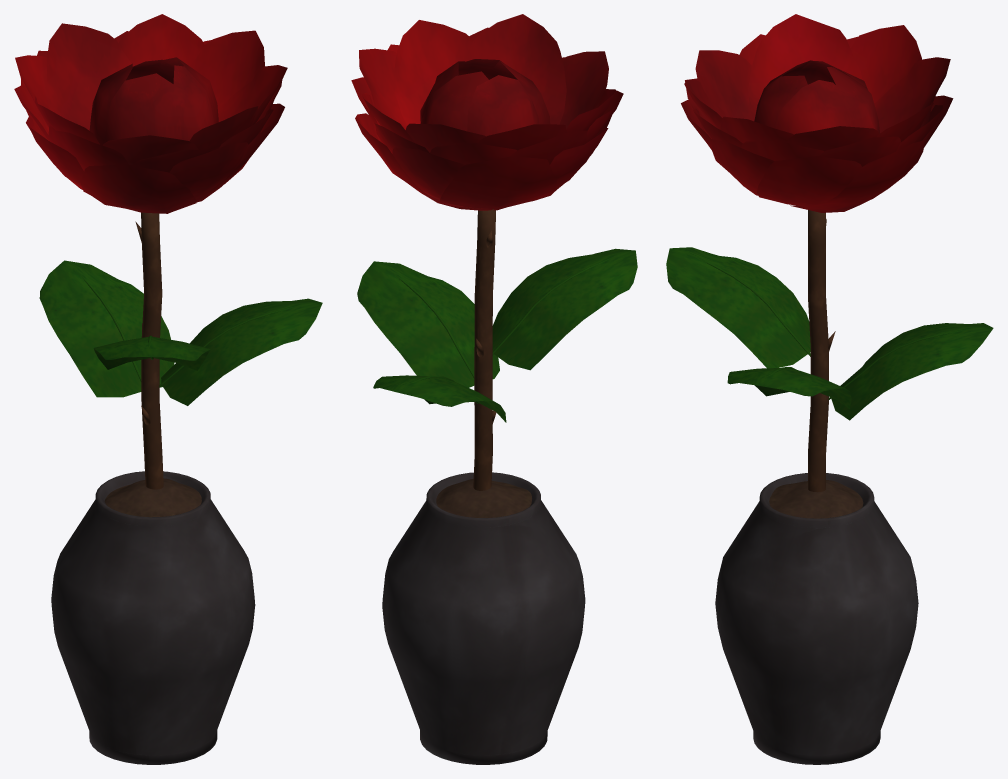
File: flower_vase.glb
3 views of the same model, side by side, from view 1: azimuth 30°, elevation 25°; view 2: azimuth 150°, elevation 25°; view 3: azimuth 270°, elevation 25° (orthographic).
Parts seen in each view (by area): view 1: Object_6, Object_2, Object_3, Object_5, Object_4; view 2: Object_6, Object_2, Object_3, Object_5, Object_4; view 3: Object_6, Object_2, Object_3, Object_5, Object_4.
Part boxes in pixels (x1=…): Object_6: x1=51, y1=471, x2=255, y2=764; Object_2: x1=14, y1=14, x2=287, y2=213; Object_3: x1=39, y1=260, x2=322, y2=405; Object_5: x1=135, y1=212, x2=163, y2=489; Object_4: x1=104, y1=478, x2=201, y2=517; Object_6: x1=382, y1=472, x2=585, y2=764; Object_2: x1=351, y1=14, x2=623, y2=210; Object_3: x1=357, y1=248, x2=637, y2=422; Object_5: x1=473, y1=209, x2=496, y2=490; Object_4: x1=436, y1=479, x2=531, y2=517; Object_6: x1=715, y1=473, x2=918, y2=764; Object_2: x1=681, y1=14, x2=953, y2=212; Object_3: x1=666, y1=247, x2=993, y2=420; Object_5: x1=808, y1=210, x2=835, y2=492; Object_4: x1=769, y1=480, x2=863, y2=518.
Size of the model in its own units: 1.99 by 4.87 by 2.16.
Materials: 5 (5 with a texture image).
